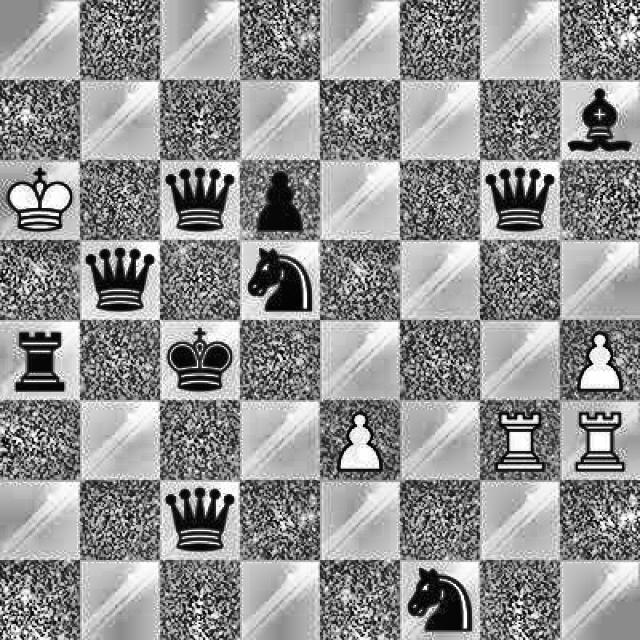Black Knight: (404, 561, 474, 640), (244, 245, 316, 316)
black bishop: (561, 81, 636, 159), (9, 319, 72, 394)
black king: (163, 324, 238, 399)
black queen: (159, 484, 242, 568), (81, 242, 160, 316), (162, 161, 234, 237), (482, 160, 556, 232)
white king: (6, 163, 76, 238)
white pawn: (333, 402, 392, 477), (572, 324, 634, 394)
white rook: (572, 406, 630, 478), (496, 403, 550, 475)
